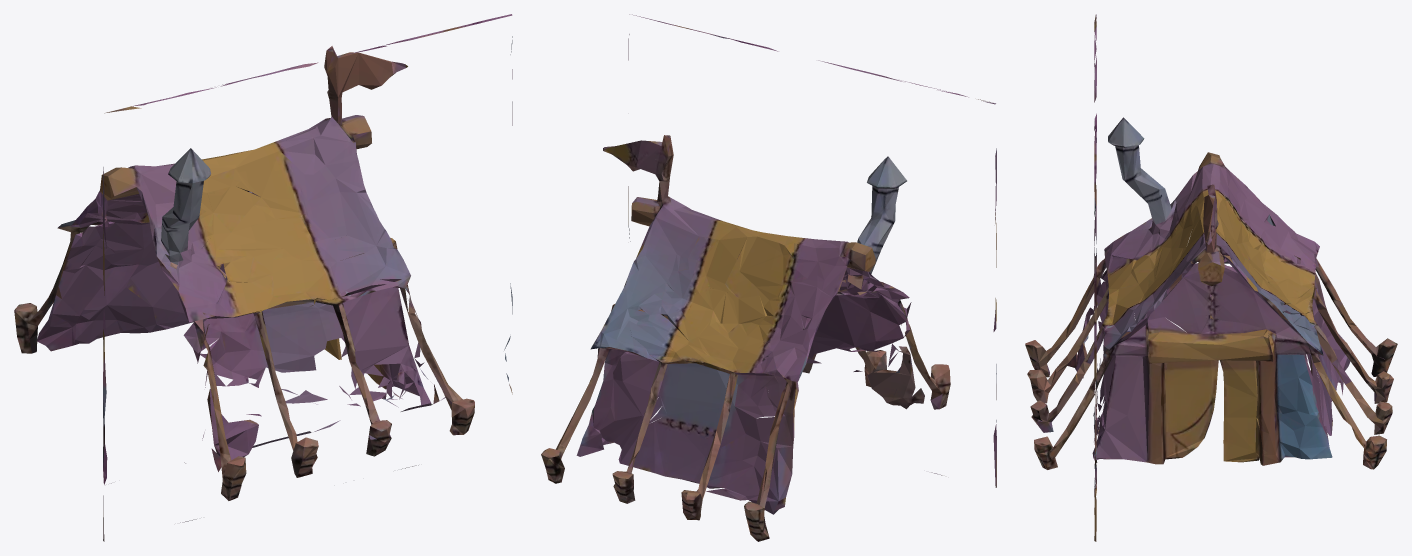
The model's file is tent_c.glb.
3 views of the same model, side by side, from view 1: azimuth 30°, elevation 25°; view 2: azimuth 150°, elevation 25°; view 3: azimuth 270°, elevation 25° (orthographic). The views are drawn at different scales.
Visible parts, largest first — view 1: geometry_0; view 2: geometry_0; view 3: geometry_0.
Part boxes in pixels (left/top/right/bottom): geometry_0: left=14, top=14, right=512, bottom=541; geometry_0: left=541, top=14, right=996, bottom=541; geometry_0: left=1025, top=14, right=1397, bottom=541.
Bounding box in the file's own units: 2.8 × 2.8 × 2.63.
Materials: 1 (1 with a texture image).
